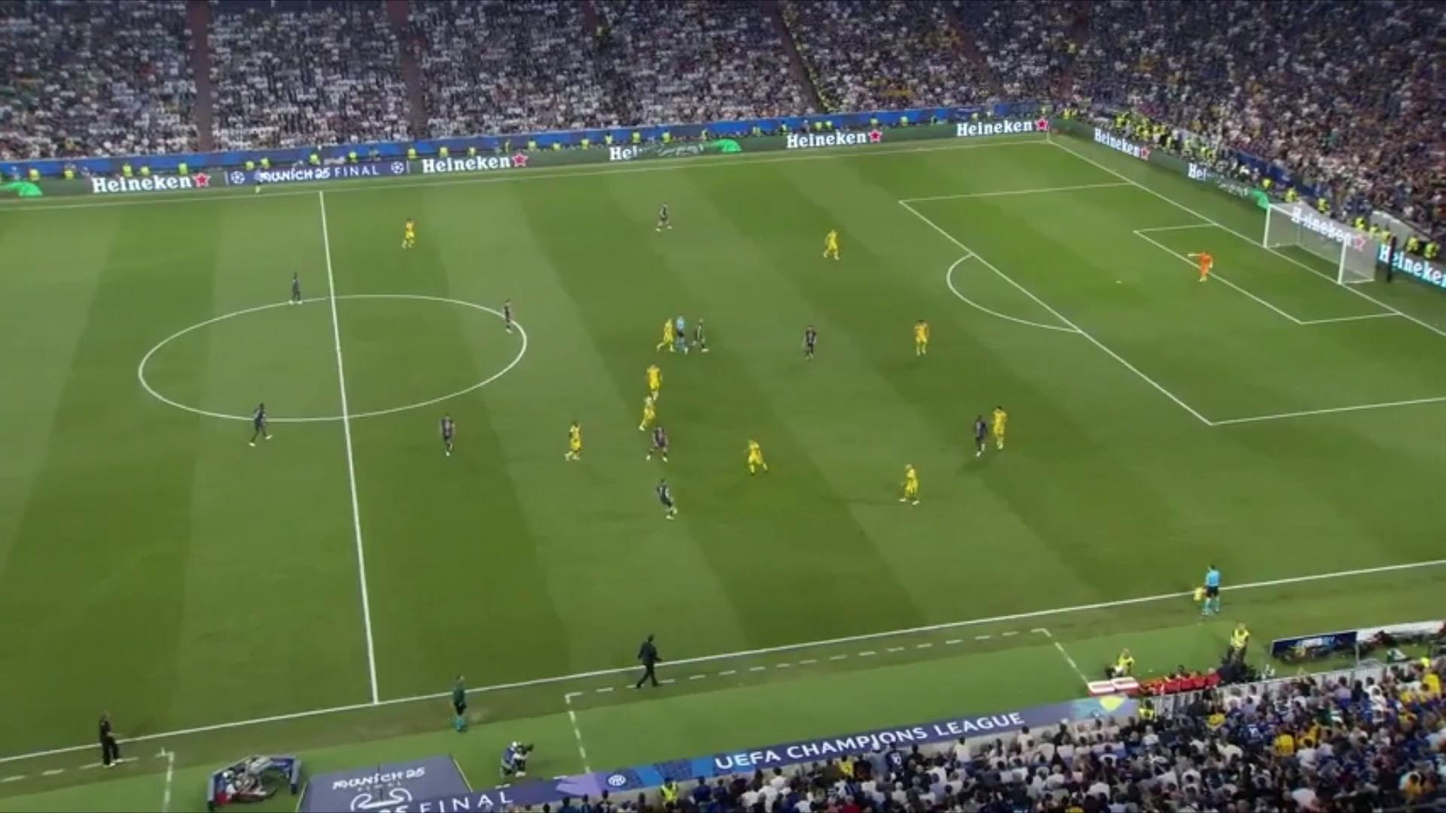ball: (673, 507, 680, 516)
player_A: (249, 399, 273, 449), (653, 477, 677, 522), (436, 412, 459, 456), (970, 411, 989, 461), (648, 427, 671, 465), (287, 270, 308, 306), (801, 324, 819, 362), (500, 294, 516, 336), (656, 199, 674, 233), (693, 319, 708, 355)
player_B: (743, 436, 771, 477), (900, 461, 922, 507), (990, 405, 1009, 455), (565, 418, 586, 463), (912, 317, 934, 356), (643, 363, 663, 399), (823, 227, 843, 262), (638, 394, 657, 430), (399, 217, 417, 253), (657, 317, 675, 353)
player_B_goal_keeper: (1187, 247, 1217, 284)
referee: (1193, 560, 1226, 617), (674, 315, 688, 355), (253, 169, 263, 195)
